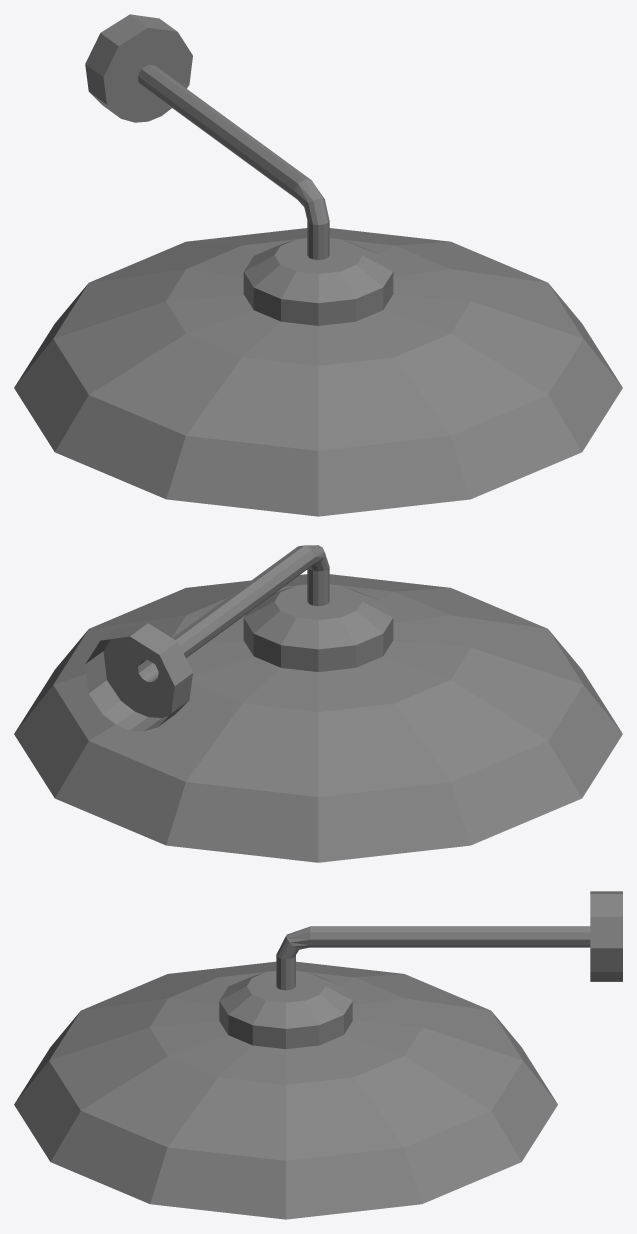
File: Shower.fbx
3 renders of one model, top to bottom at view 1: azimuth 30°, elevation 25°; view 2: azimuth 150°, elevation 25°; view 3: azimuth 270°, elevation 25°, orthographic. The views are drawn at different scales.
Parts seen in each view (by area): view 1: Shower; view 2: Shower; view 3: Shower.
Boxes of the visible parts, left/top/right/bottom form: Shower: left=14, top=14, right=622, bottom=516; Shower: left=14, top=545, right=622, bottom=862; Shower: left=14, top=891, right=622, bottom=1219.
Size of the model in its own units: 32.61 by 13.92 by 36.5.
1 material, 1 textured.
